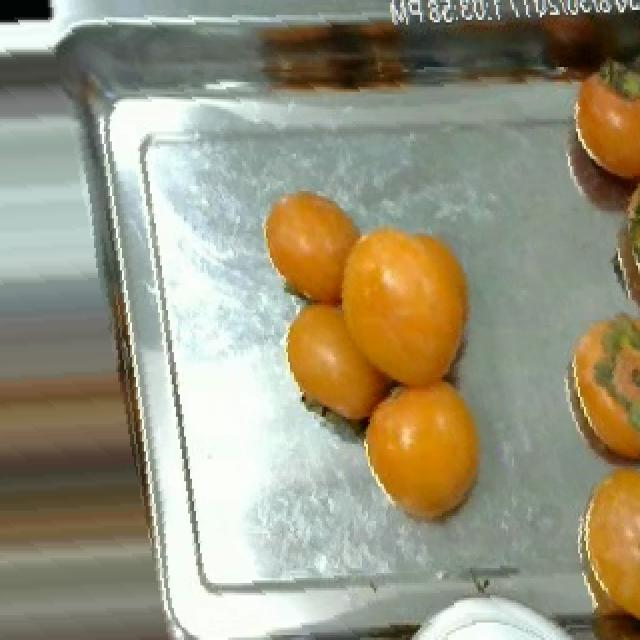Fruit: (350, 360, 492, 538), (564, 451, 640, 640), (558, 300, 640, 474)
